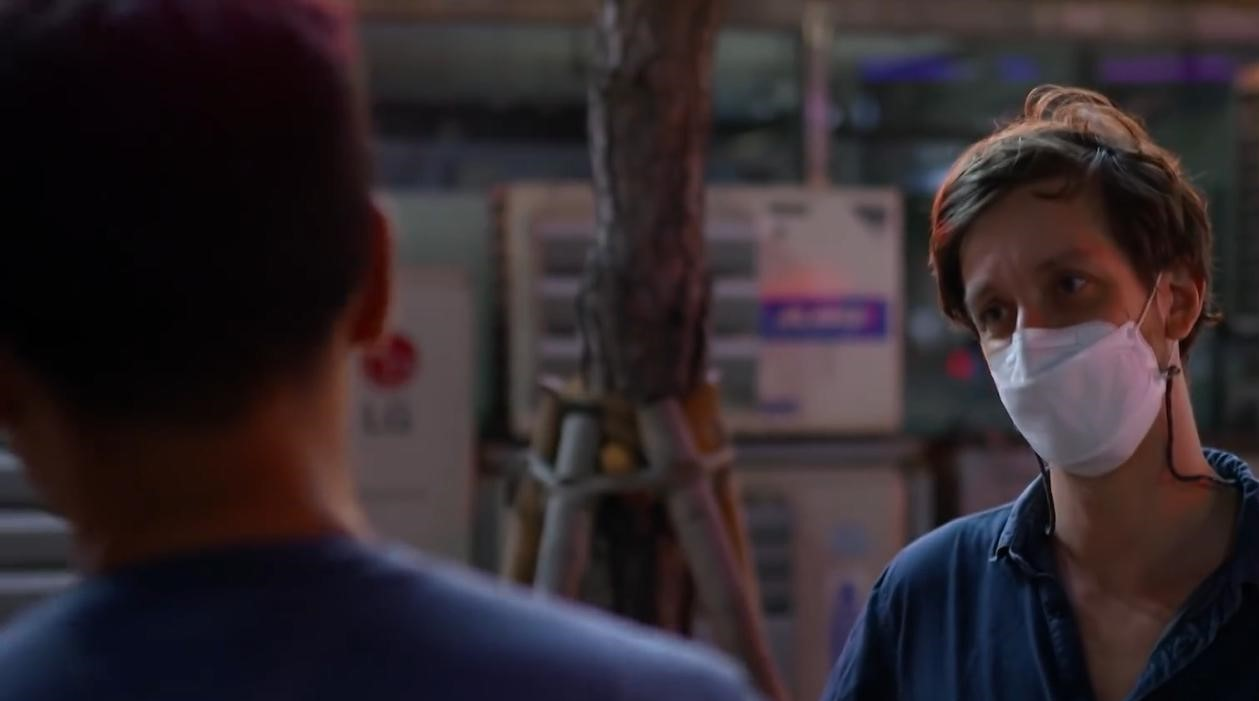with_mask: (1007, 241, 1158, 416)
